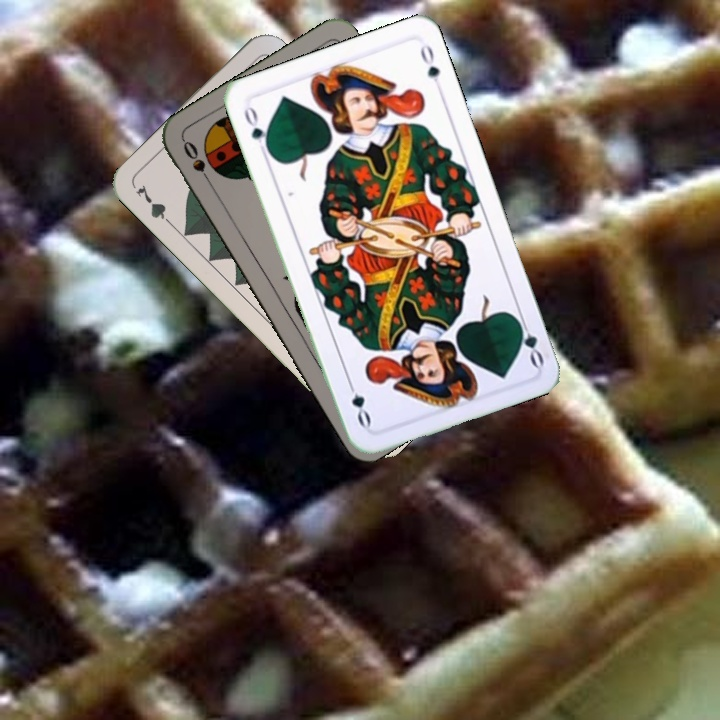G7: (132, 180, 178, 231)
GO: (511, 311, 547, 370), (240, 101, 273, 159)
SO: (178, 137, 216, 190)
